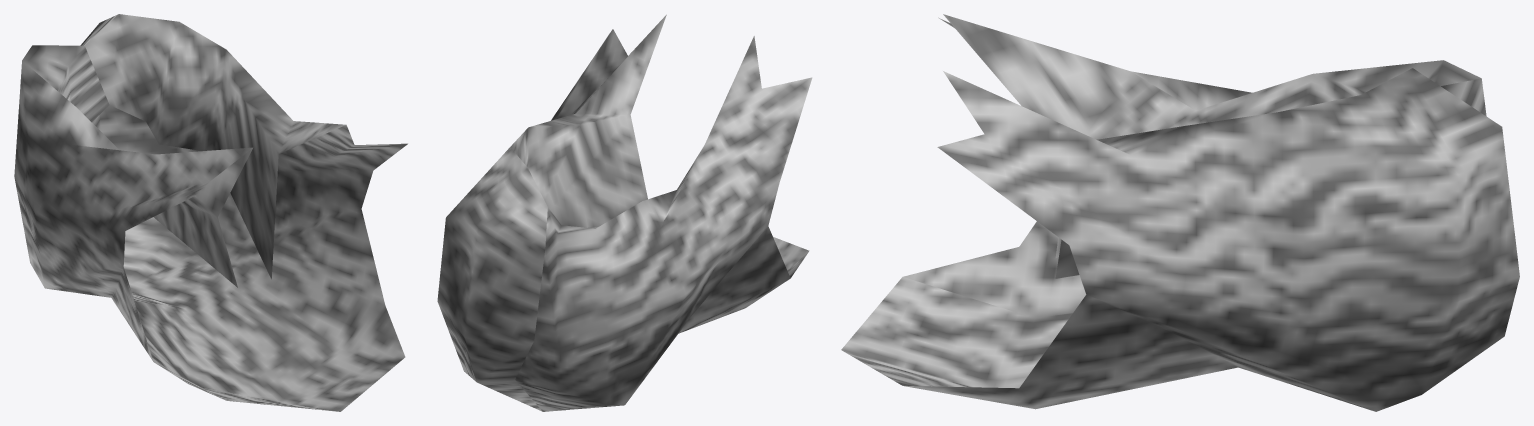
File: Wig_Bob_Hair_FabianBraided.fbx
3 renders of one model, left to right at view 1: azimuth 30°, elevation 25°; view 2: azimuth 150°, elevation 25°; view 3: azimuth 270°, elevation 25°, orthographic. The views are drawn at different scales.
Parts seen in each view (by area): view 1: BoxOfJars003; view 2: BoxOfJars003; view 3: BoxOfJars003.
Part boxes in pixels (x1,y1,x2,y2): BoxOfJars003: [14, 14, 407, 411]; BoxOfJars003: [437, 14, 812, 411]; BoxOfJars003: [841, 14, 1519, 411].
Bounding box in the file's own units: 13.46 × 14.64 × 25.53.
